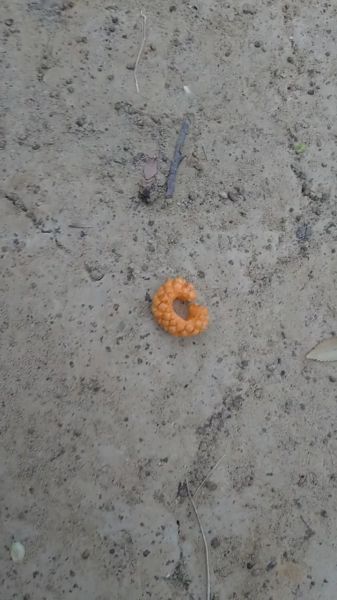eggs: (148, 270, 213, 344)
